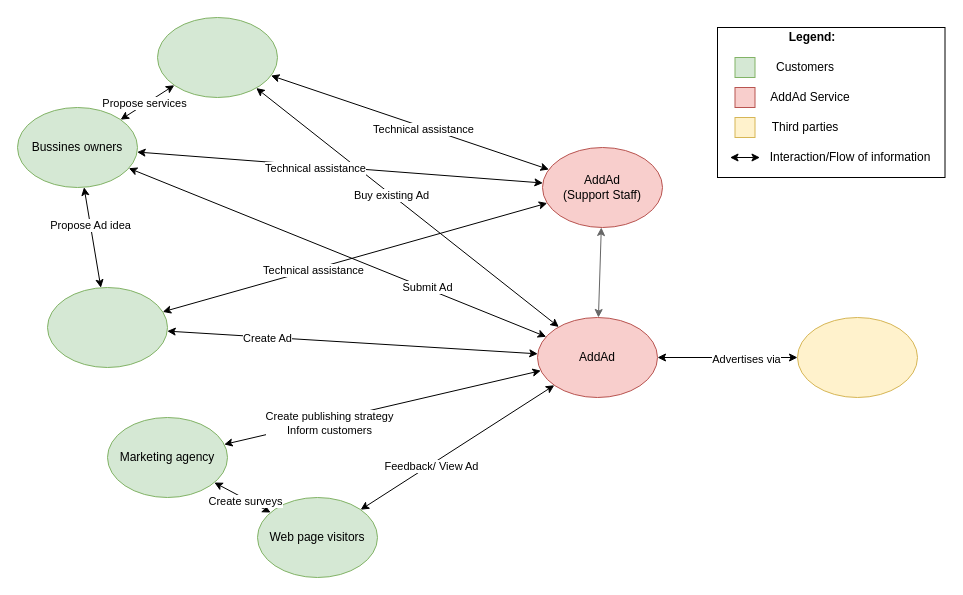
This 963x595 diagram has some shape labels left out. Each missing label, with the centre of its shape:
Designers: (107,327)
Social Media (Facebook, etc.): (857,357)
Website owners: (217,57)
